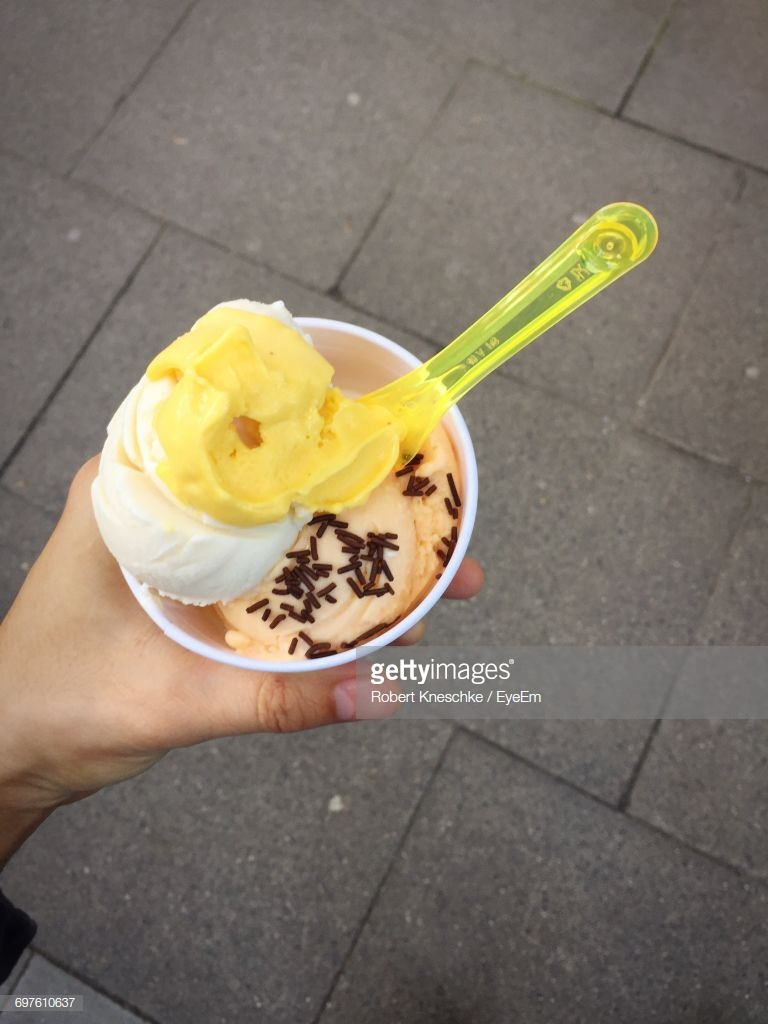ice-cream: (103, 304, 325, 600), (223, 471, 469, 665)
